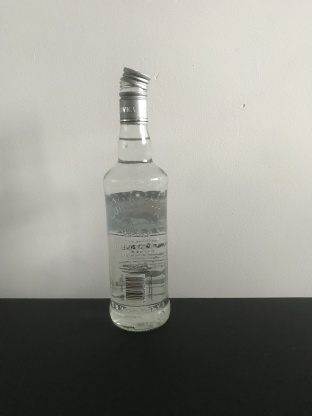nakretka: (117, 64, 151, 124)
